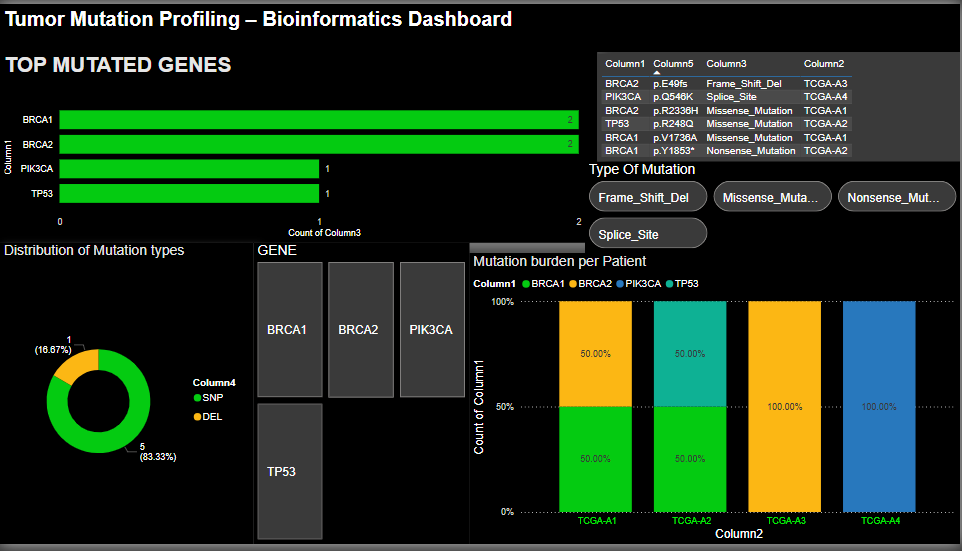

The dashboard page shown, as its layout file describes it:
{"tool":"powerbi","page":{"name":"Page 1","canvas":[1280,720],"ordinal":0},"visuals":[{"type":"barChart","title":"TOP MUTATED GENES","fields":{"Category":["Sheet1.Column1"],"Y":["CountNonNull(Sheet1.Column3)"]},"box":[0,64,796,254],"z":0},{"type":"donutChart","title":"Distribution of Mutation types","fields":{"Category":["Sheet1.Column4"],"Y":["CountNonNull(Sheet1.Column4)"]},"box":[0,318,338,402],"z":1000},{"type":"hundredPercentStackedColumnChart","title":"Mutation burden per Patient","fields":{"Category":["Sheet1.Column2"],"Series":["Sheet1.Column1"],"Y":["CountNonNull(Sheet1.Column1)"]},"box":[626,332,654,388],"z":2000},{"type":"tableEx","fields":{"Values":["Sheet1.Column1","Sheet1.Column5","Sheet1.Column3","Sheet1.Column2"]},"box":[796,54,484,156],"z":3000},{"type":"advancedSlicerVisual","title":"GENE","fields":{"Values":["Sheet1.Column1"]},"box":[338,318,288,402],"z":4000},{"type":"advancedSlicerVisual","title":"Type Of Mutation","fields":{"Values":["Sheet1.Column3"]},"box":[780,210,500,122],"z":5000},{"type":"textbox","box":[0,0,1280,64],"z":6000}]}

Visuals, with their boxes in screenshot pixels (x1, y1, x2, y2), scaled from the page's 1280x720 canvas onto the 962x551 screenshot:
"TOP MUTATED GENES" barChart: crop(0, 49, 598, 243)
"Distribution of Mutation types" donutChart: crop(0, 243, 254, 550)
"Mutation burden per Patient" hundredPercentStackedColumnChart: crop(470, 254, 961, 550)
tableEx - Sheet1.Column1 x Sheet1.Column5: crop(598, 41, 961, 161)
"GENE" advancedSlicerVisual: crop(254, 243, 470, 550)
"Type Of Mutation" advancedSlicerVisual: crop(586, 161, 961, 254)
textbox: crop(0, 0, 961, 49)
